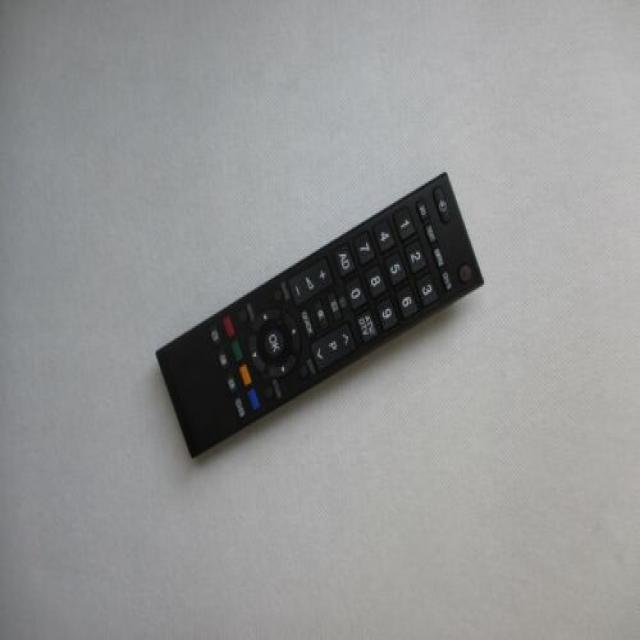remote: (155, 173, 484, 459)
